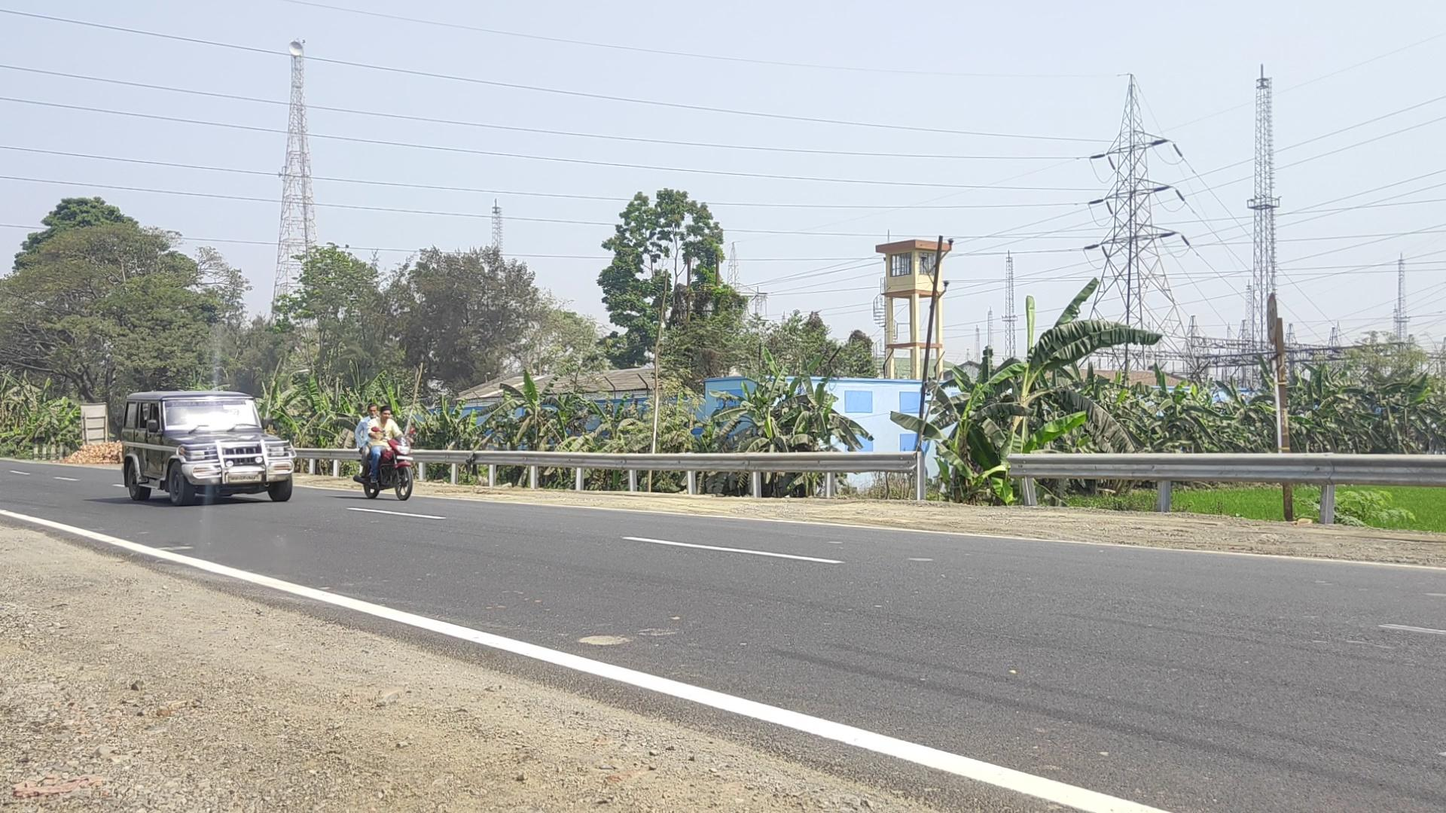bike: (353, 403, 416, 501)
car: (122, 390, 297, 507)
